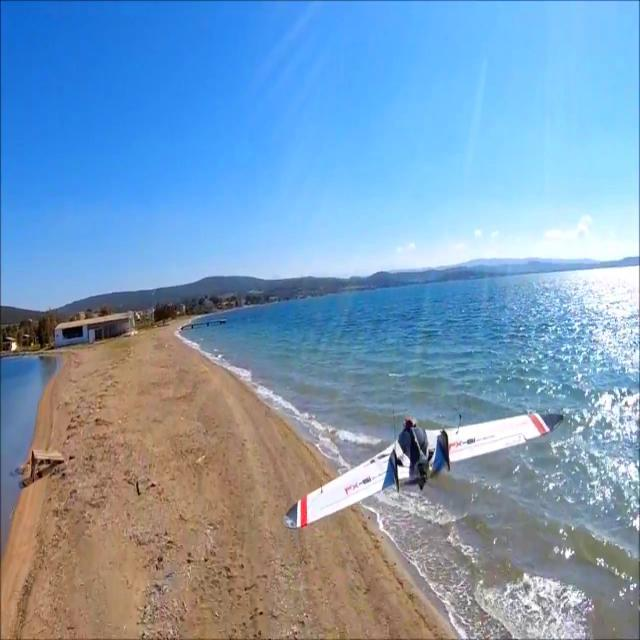iha: (254, 352, 559, 546)
